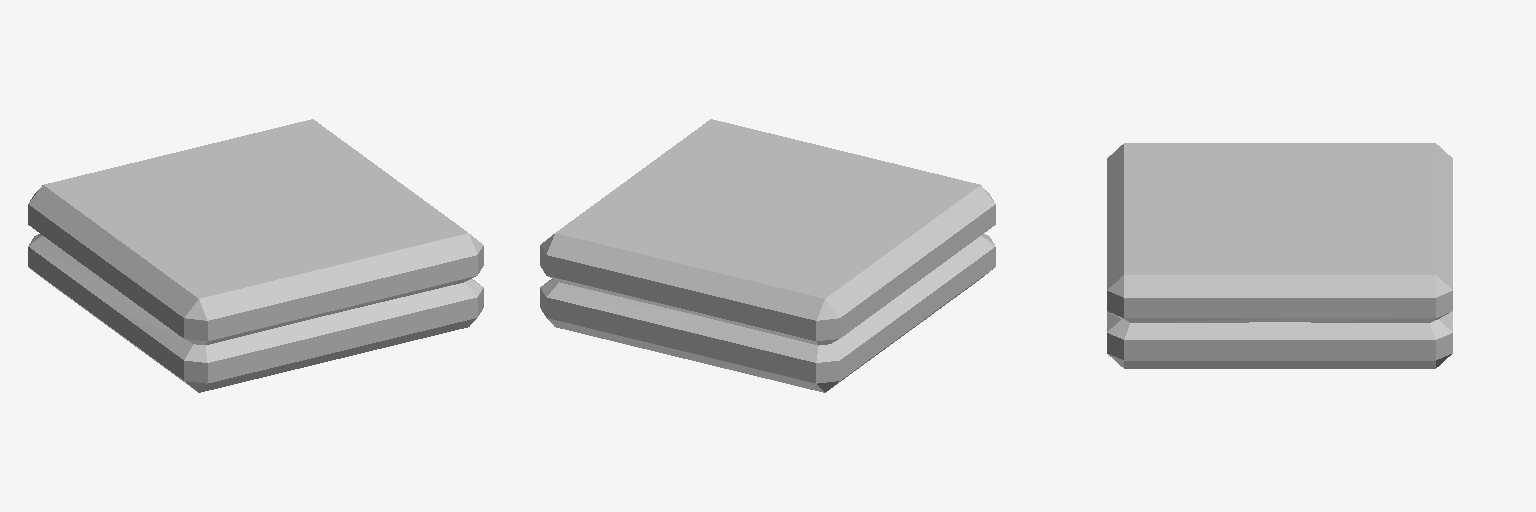
File: picnic_blanket_blue_folded.obj
3 renders of one model, left to right at view 1: azimuth 30°, elevation 25°; view 2: azimuth 150°, elevation 25°; view 3: azimuth 270°, elevation 25°, orthographic.
Visible parts, largest first — view 1: picnic_blanket_blue_folded; view 2: picnic_blanket_blue_folded; view 3: picnic_blanket_blue_folded.
Boxes of the visible parts, x1=… form: picnic_blanket_blue_folded: x1=28, y1=119, x2=483, y2=392; picnic_blanket_blue_folded: x1=540, y1=119, x2=995, y2=392; picnic_blanket_blue_folded: x1=1107, y1=143, x2=1452, y2=368.
Bounding box in the file's own units: 1 × 0.3 × 1.